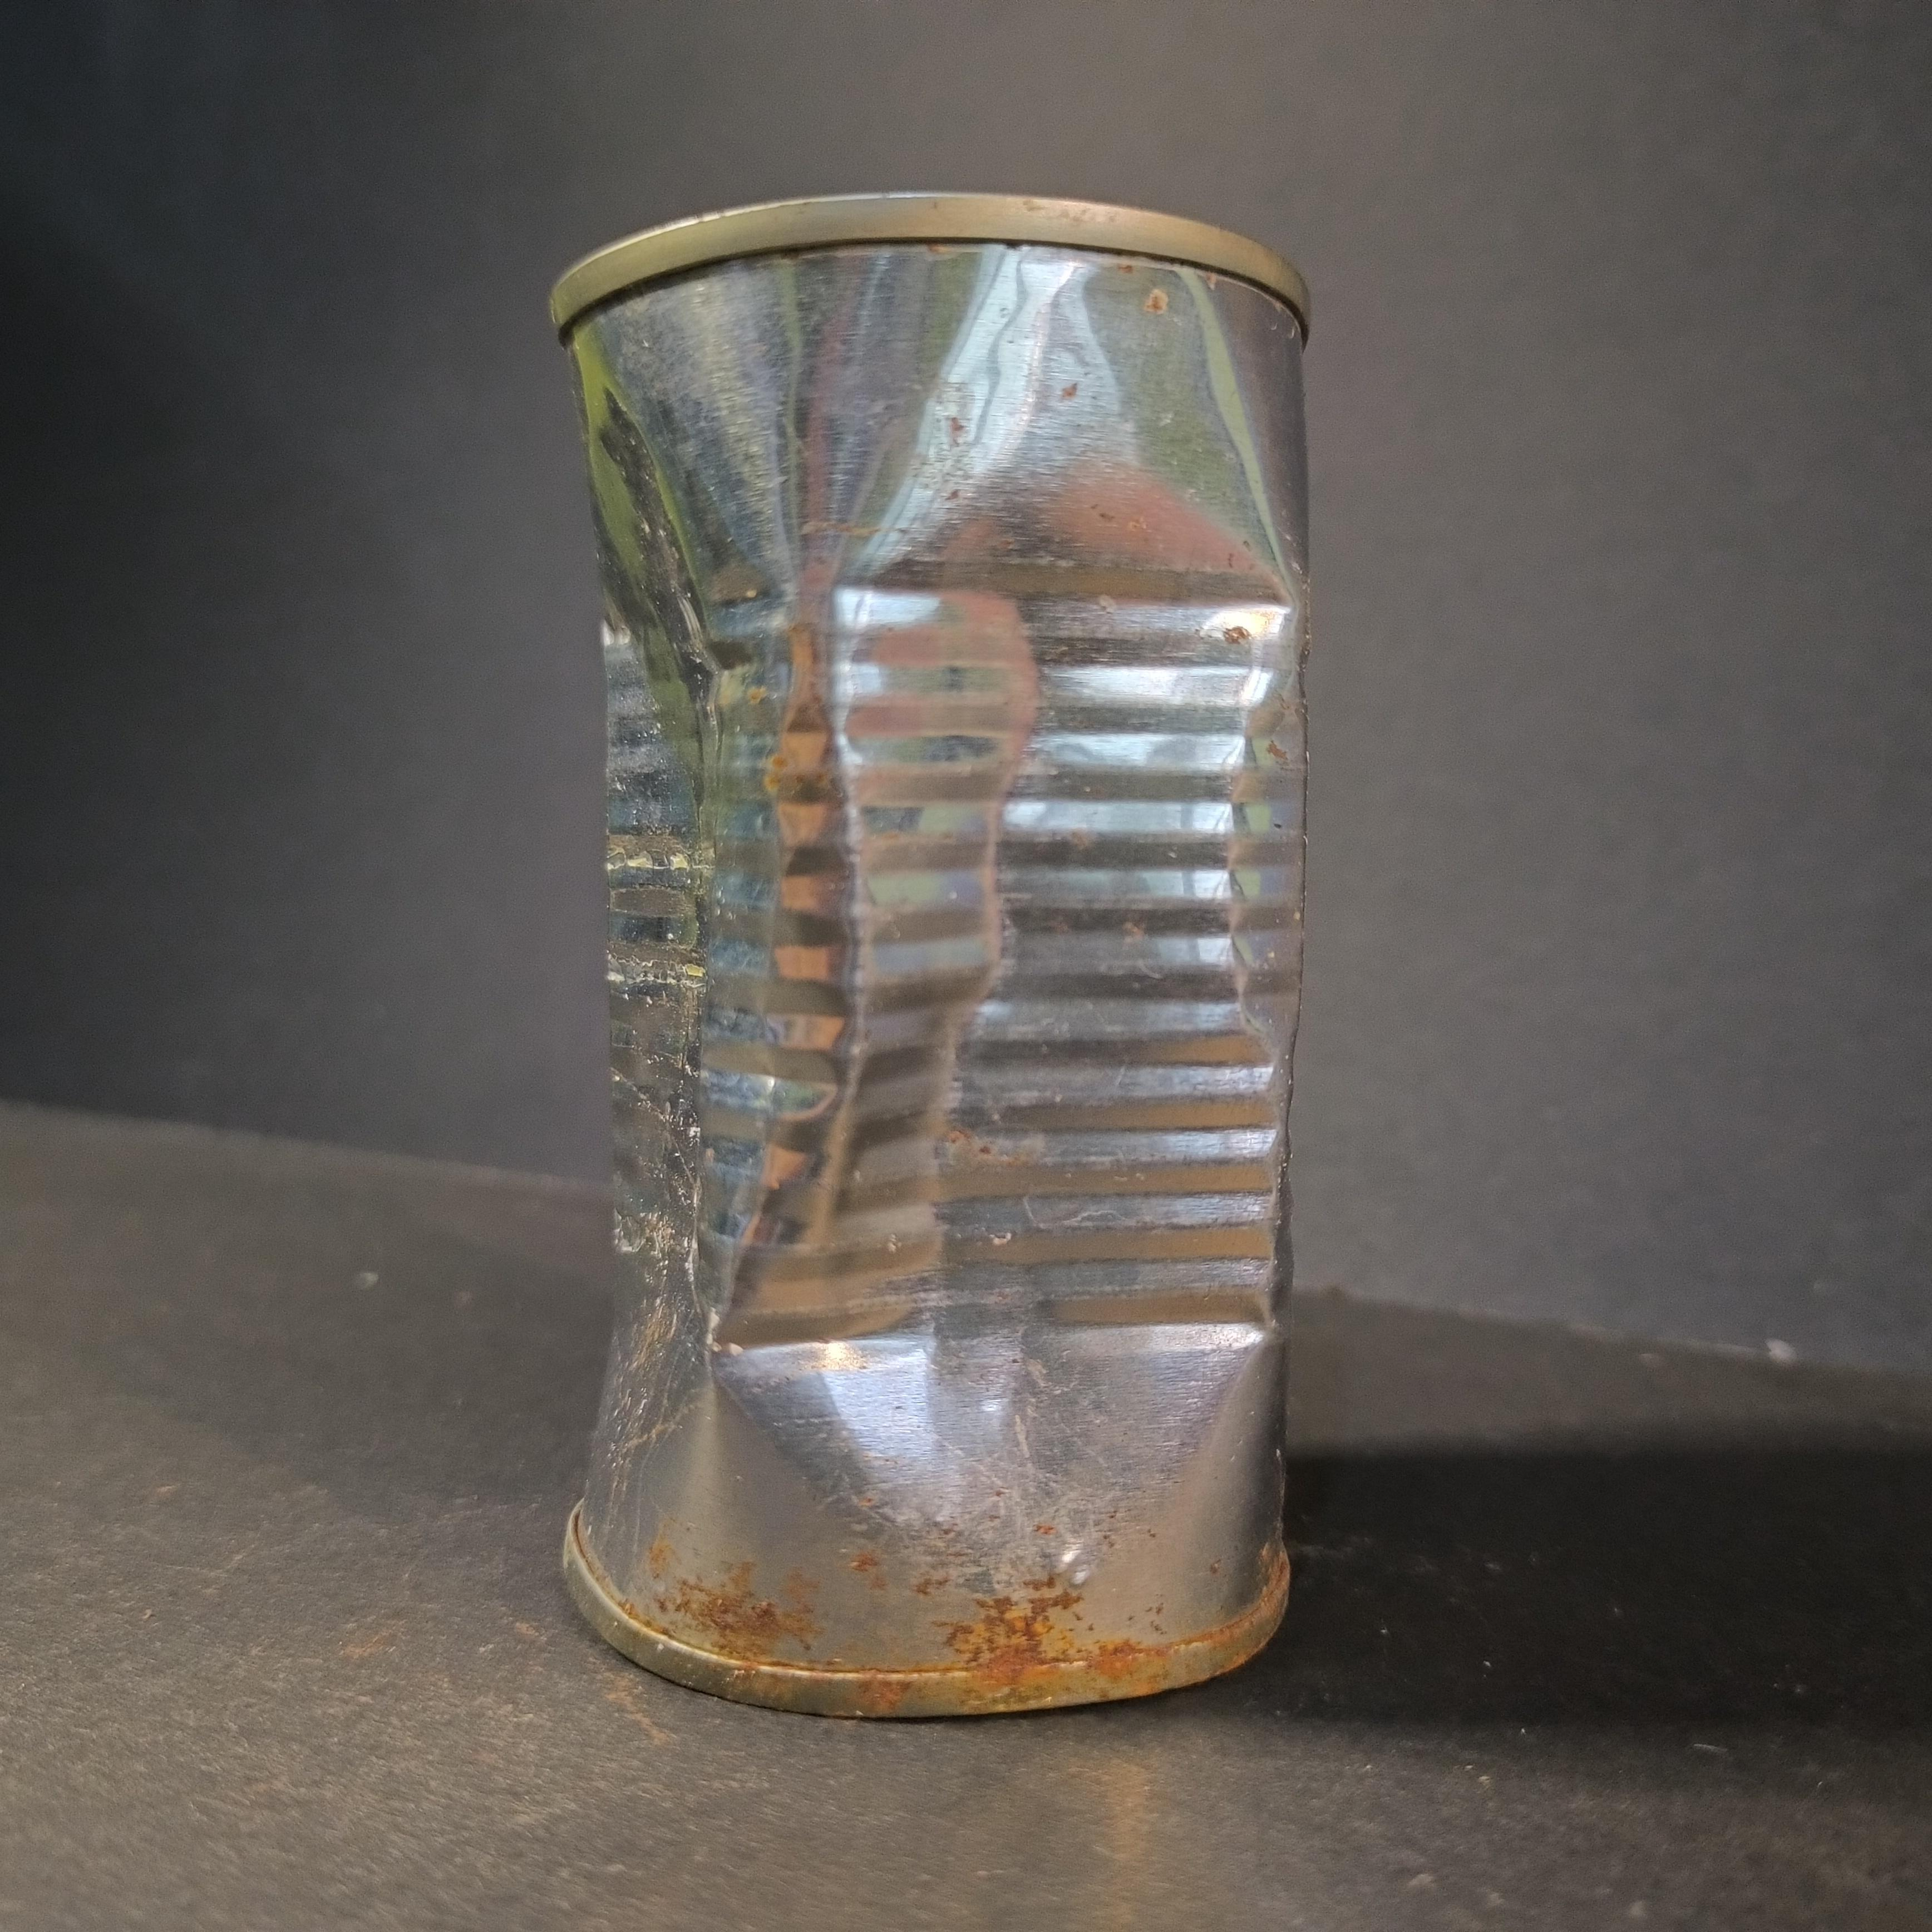Dented: (529, 165, 1345, 1721)
